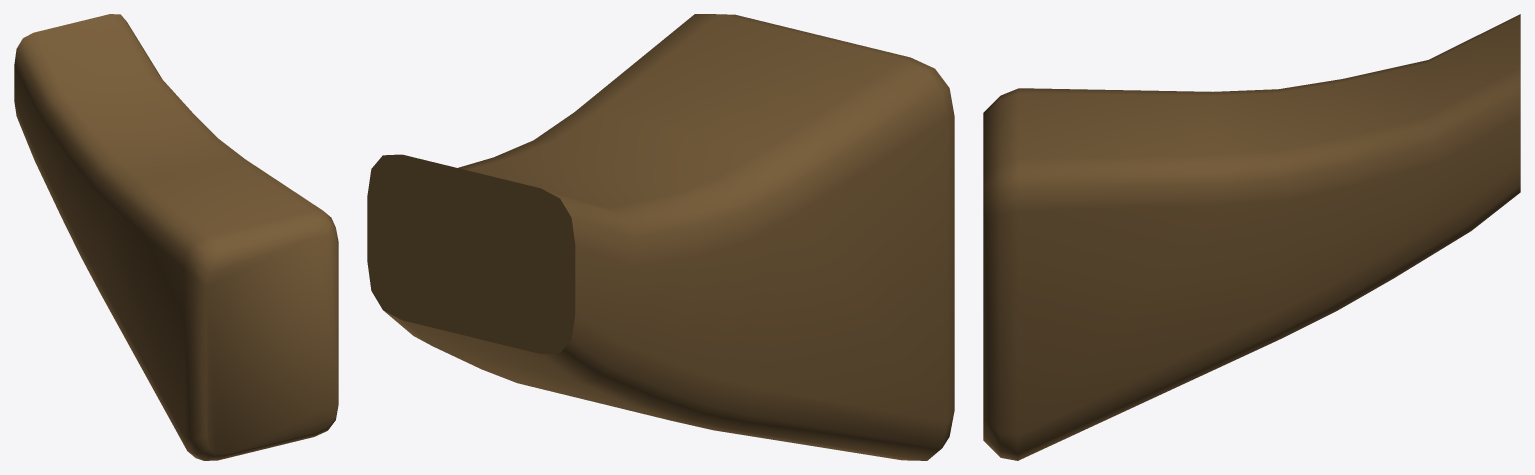
File: Entity_Crossbow-handle.FBX
3 views of the same model, side by side, from view 1: azimuth 30°, elevation 25°; view 2: azimuth 150°, elevation 25°; view 3: azimuth 270°, elevation 25° (orthographic). The views are drawn at different scales.
Visible parts, largest first — view 1: Bow; view 2: Bow; view 3: Bow.
Part boxes in pixels (x1,y1,x2,y2): Bow: (14,14,338,460); Bow: (367,14,954,460); Bow: (983,14,1520,460).
Size of the model in its own units: 28.77 by 52.1 by 66.53.
